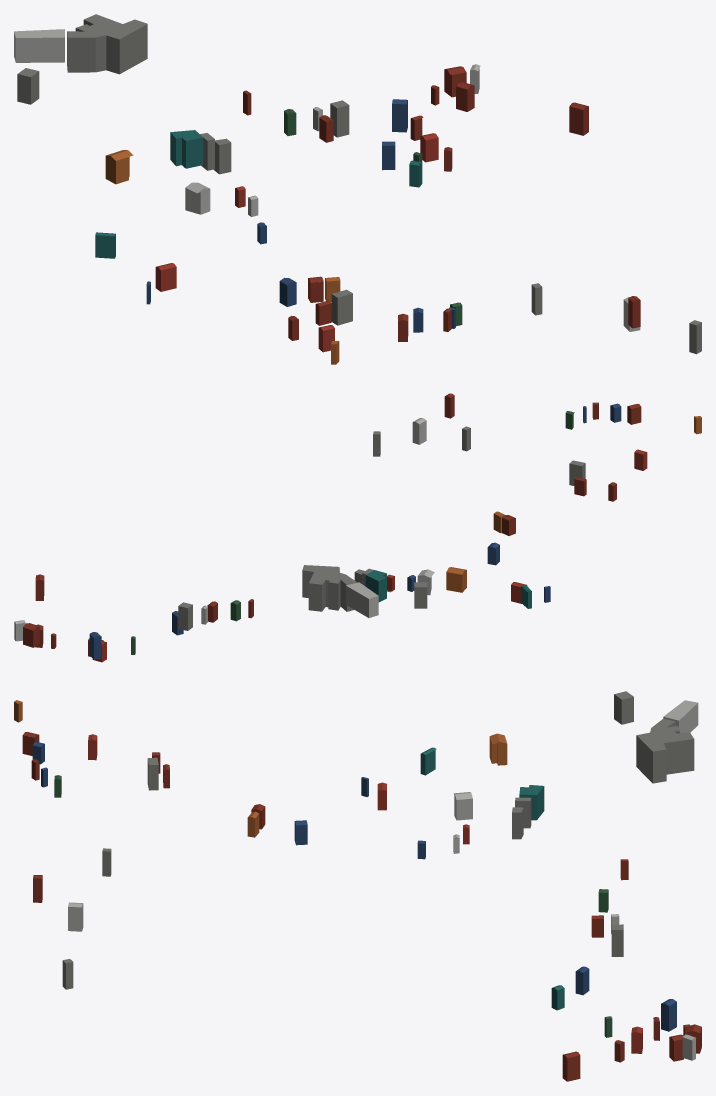
File: near-16-54720-29745.dee24706.glb
3 views of the same model, one above another, from view 1: azimuth 30°, elevation 25°; view 2: azimuth 150°, elevation 25°; view 3: azimuth 270°, elevation 25° (orthographic). The views are drawn at different scales.
Bounding box in the file's own units: 500 × 170 × 576.
